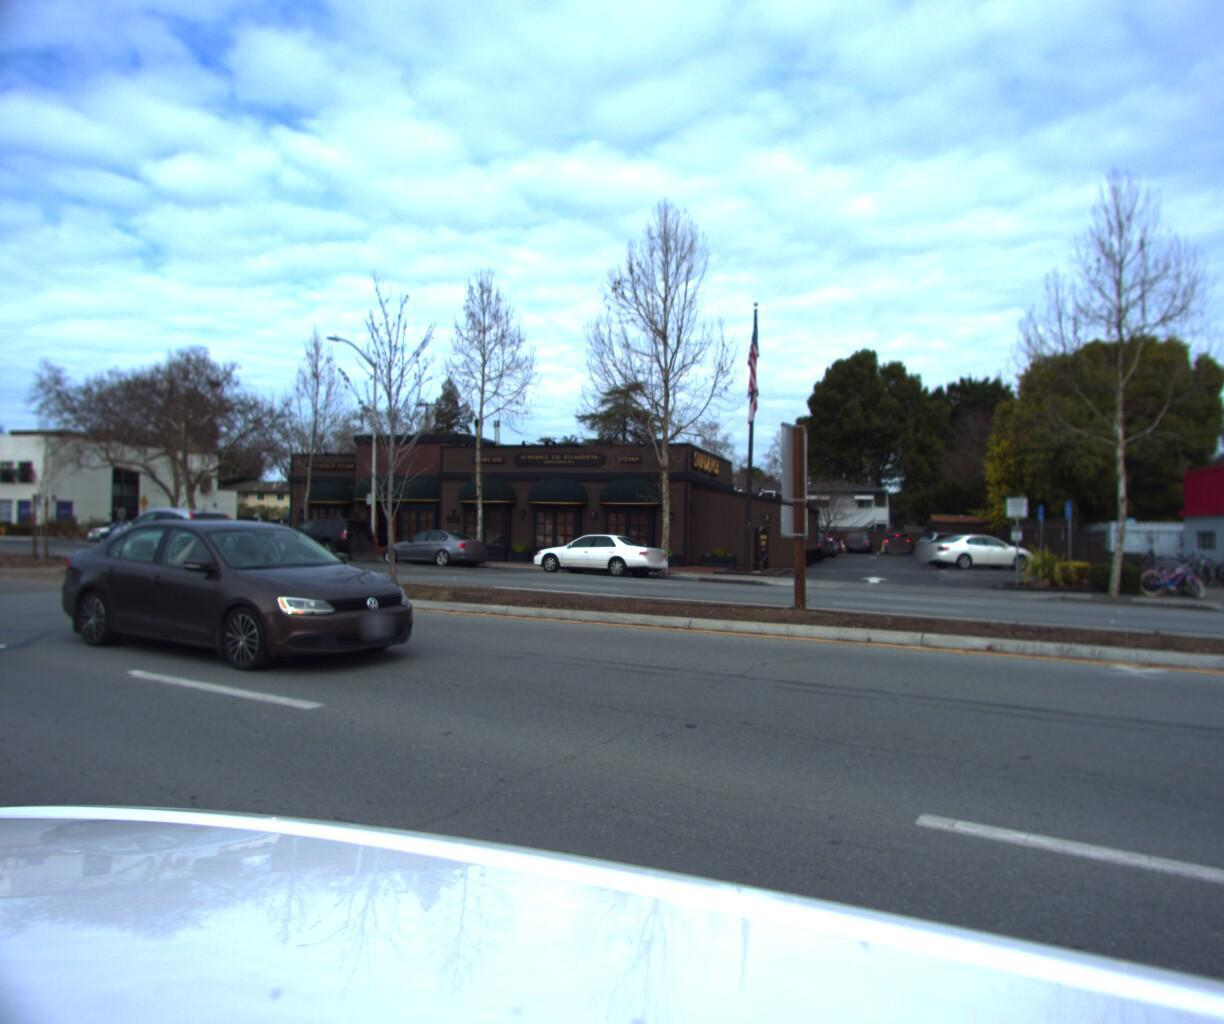bicycle: (1139, 553, 1208, 598), (1133, 553, 1200, 597), (1119, 552, 1181, 593), (1180, 550, 1212, 587), (1197, 551, 1224, 588), (1216, 552, 1224, 590), (1223, 552, 1224, 591)
car: (42, 515, 442, 684), (101, 508, 244, 570), (522, 531, 673, 582), (264, 519, 378, 567), (373, 530, 496, 573), (82, 524, 159, 547), (233, 523, 286, 552)
